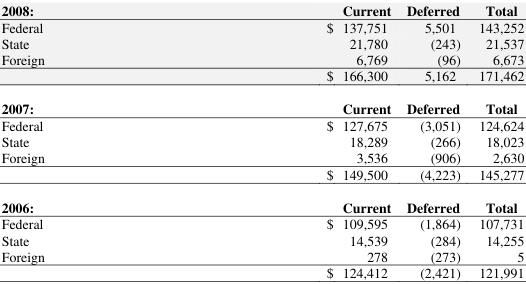table: (0, 0, 523, 281)
table column: (184, 0, 398, 281), (0, 0, 184, 281), (398, 0, 468, 281), (468, 0, 523, 281)
table column header: (0, 0, 523, 18)
table row: (0, 66, 523, 91), (0, 91, 523, 116), (0, 165, 523, 190), (0, 190, 523, 215), (0, 0, 523, 18), (0, 263, 523, 281), (0, 148, 523, 165), (0, 18, 523, 34), (0, 34, 523, 50), (0, 50, 523, 66), (0, 116, 523, 132), (0, 132, 523, 148), (0, 215, 523, 231), (0, 231, 523, 247), (0, 247, 523, 263)
